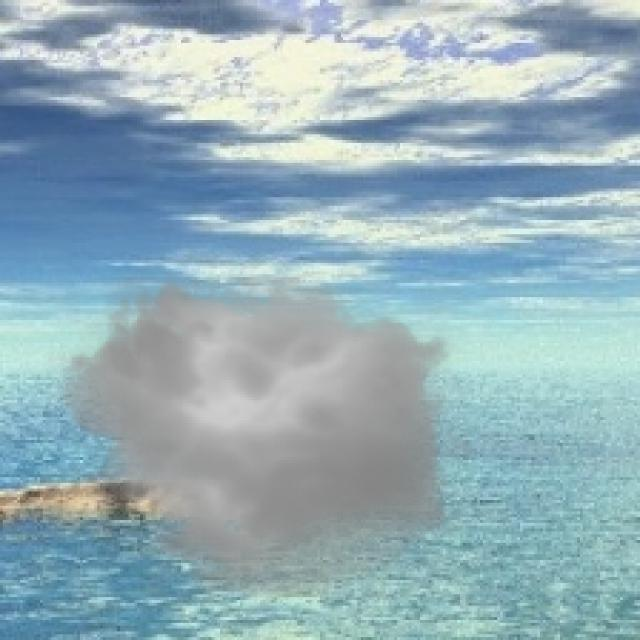smoke: (46, 260, 468, 609)
